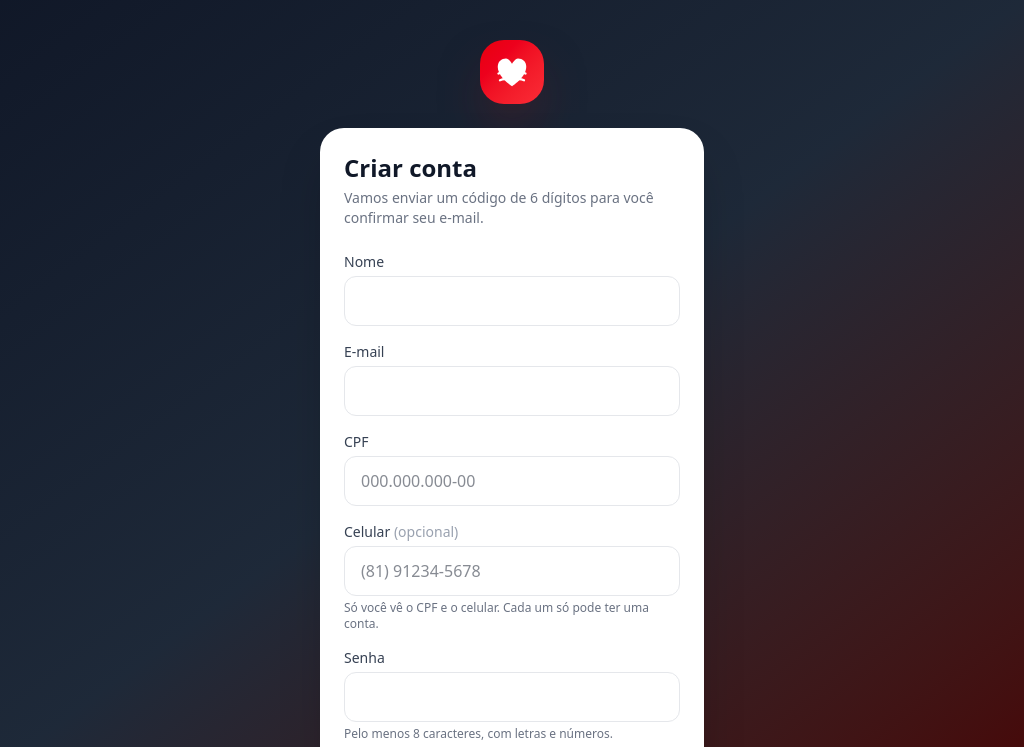
Test case: SignupPage › senhas diferentes não criam a conta
Type "Ana" into the field labelled "Nome". click: (512,301)
box: [344,276,680,326]
Type "ana@example.com" into the field labelled "E-mail". click: (512,391)
box: [344,366,680,416]
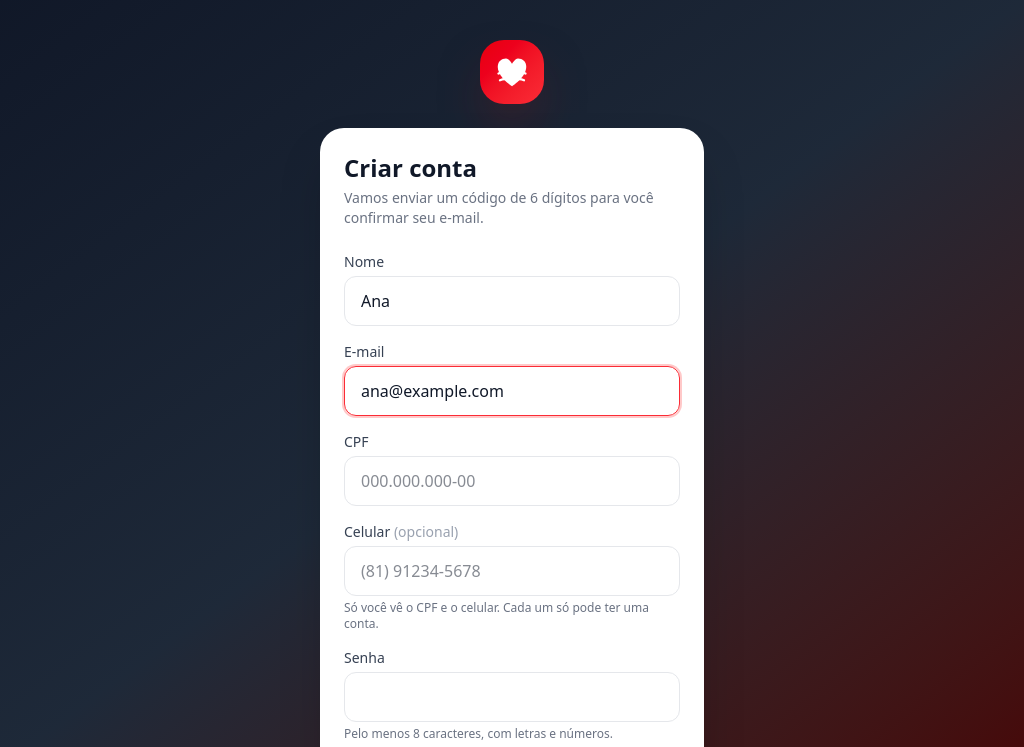
Type "52998224725" into the field labelled "CPF". click: (512,481)
box: [344,456,680,506]
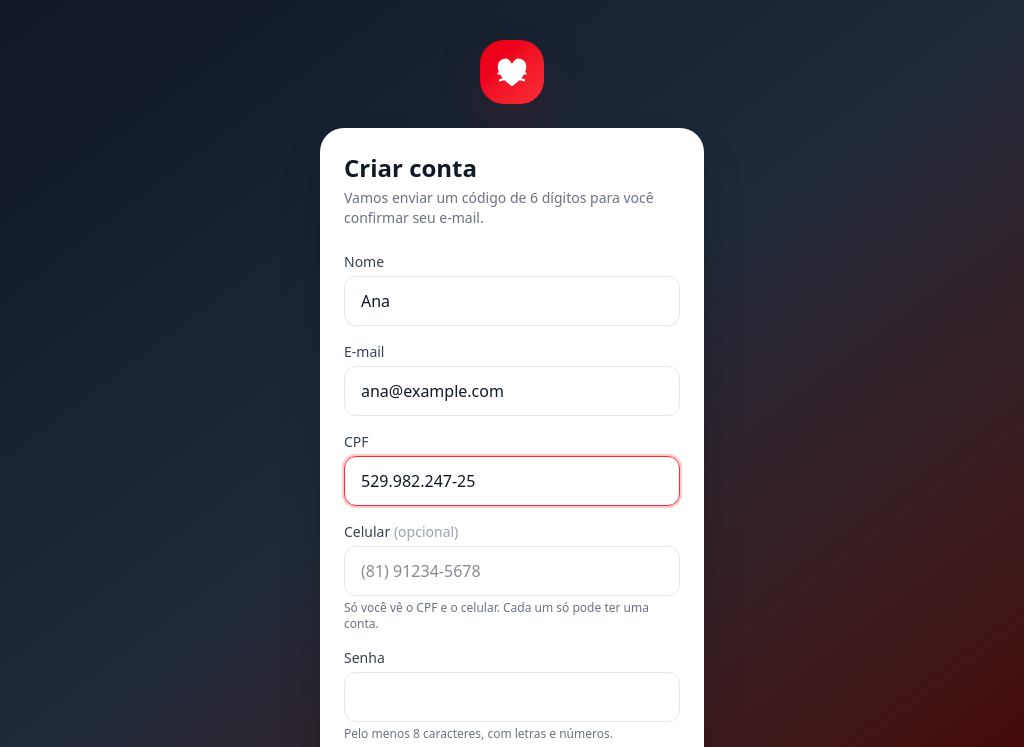
Type "81912345678" into the field labelled "Celular (opcional)". click: (512,571)
box: [344,546,680,596]
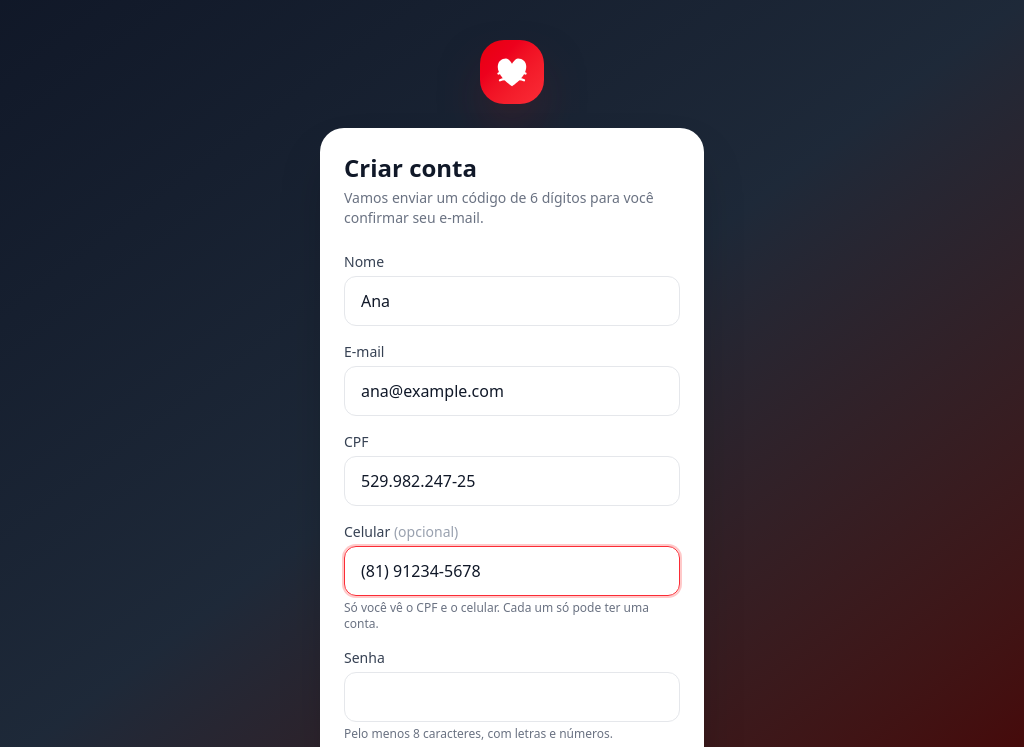
Type "frevo2026" into the password field labelled "Senha". click: (512,697)
box: [344,672,680,722]
(page scrolled)
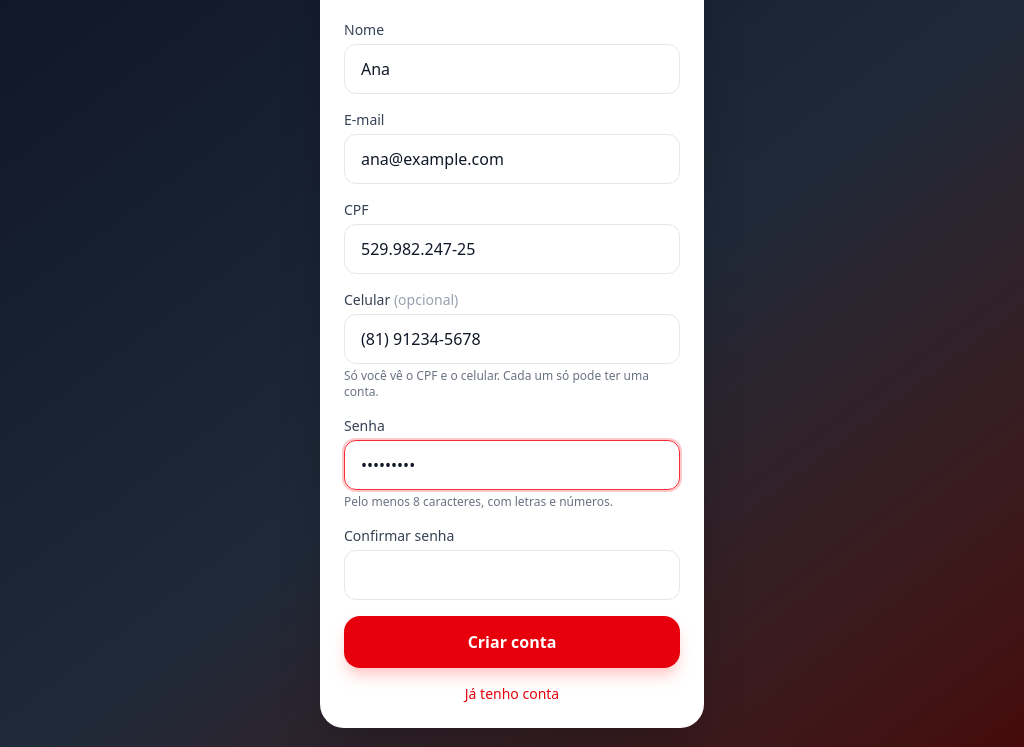
Type "frevo2027" into the password field labelled "Confirmar senha". click: (512,575)
box: [344,550,680,600]
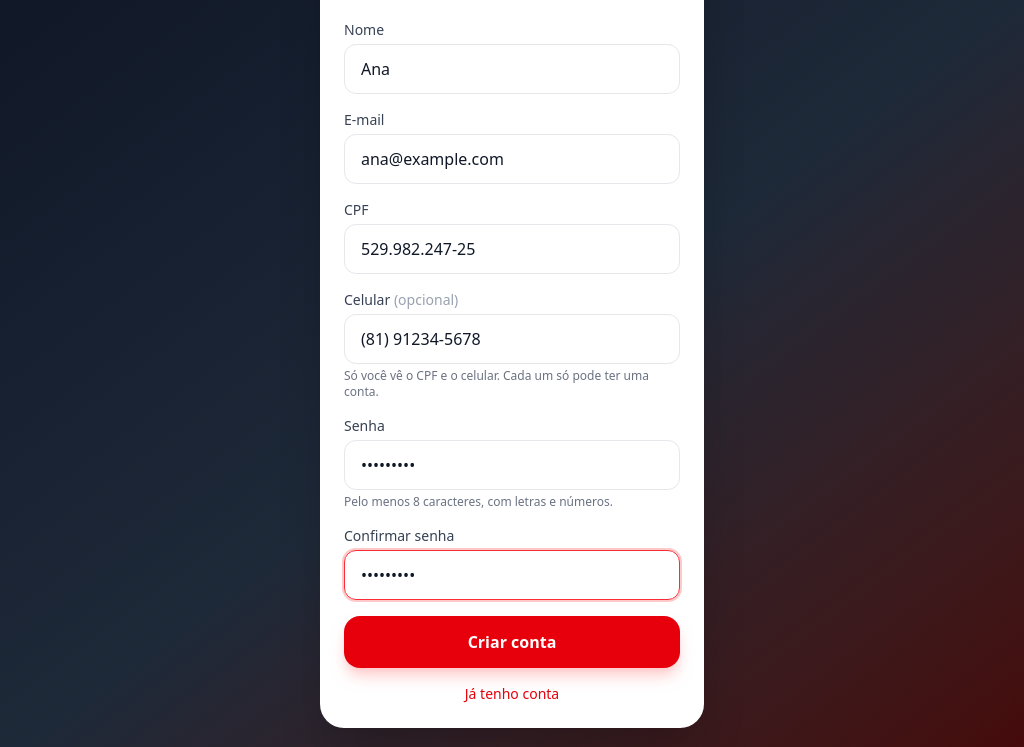
Click the button "Criar conta". click: (512,642)
box: [344,616,680,668]
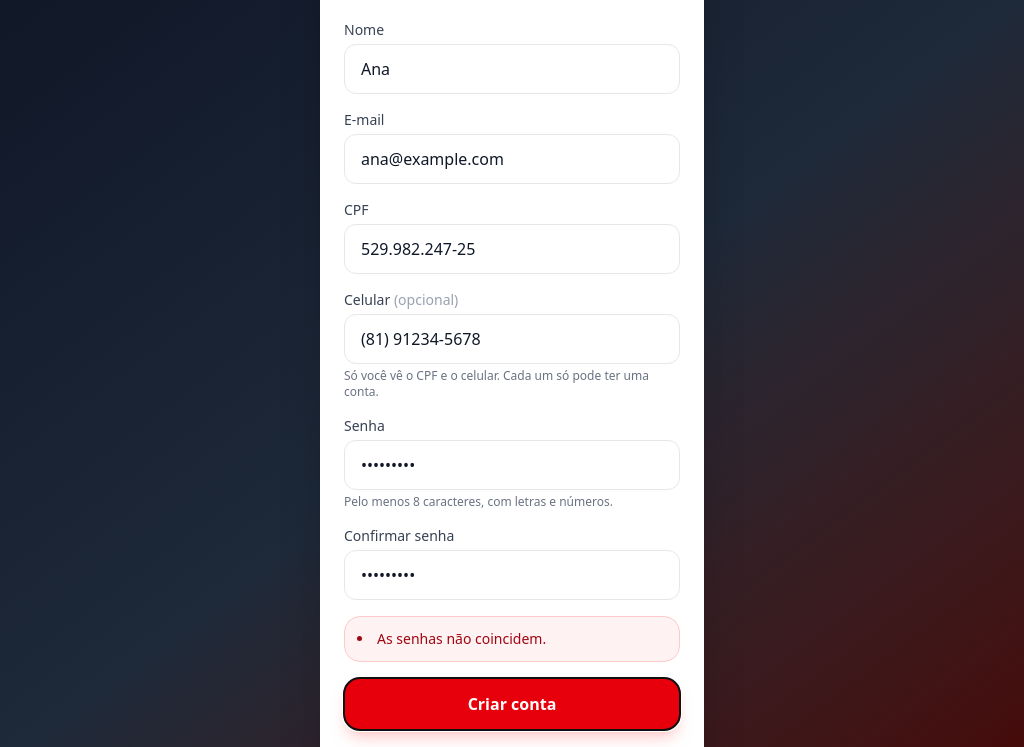
Expected: the list item "As senhas não coincidem." is shown, [377,629,546,648]
